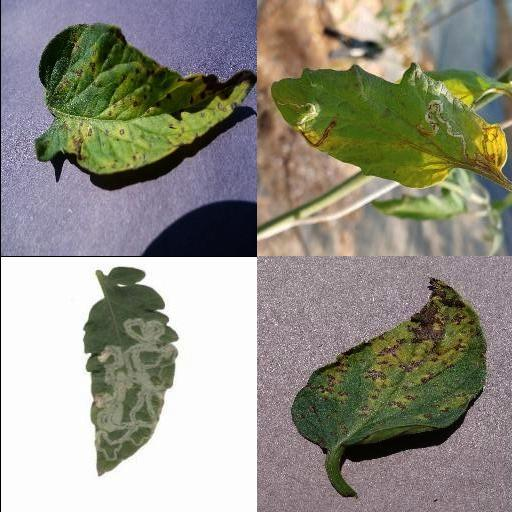Leaf Miner: (269, 62, 511, 194), (82, 266, 180, 475)
Septoria: (292, 279, 487, 455), (31, 24, 255, 176)
